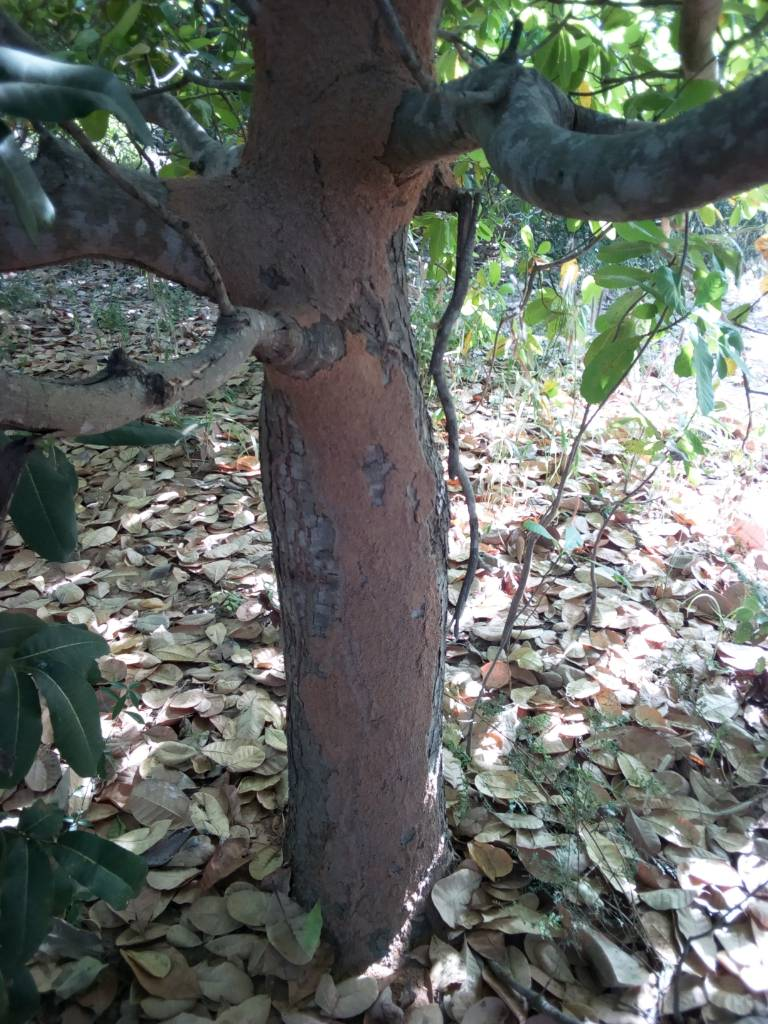Termites: (305, 341, 441, 916), (261, 2, 422, 325)
